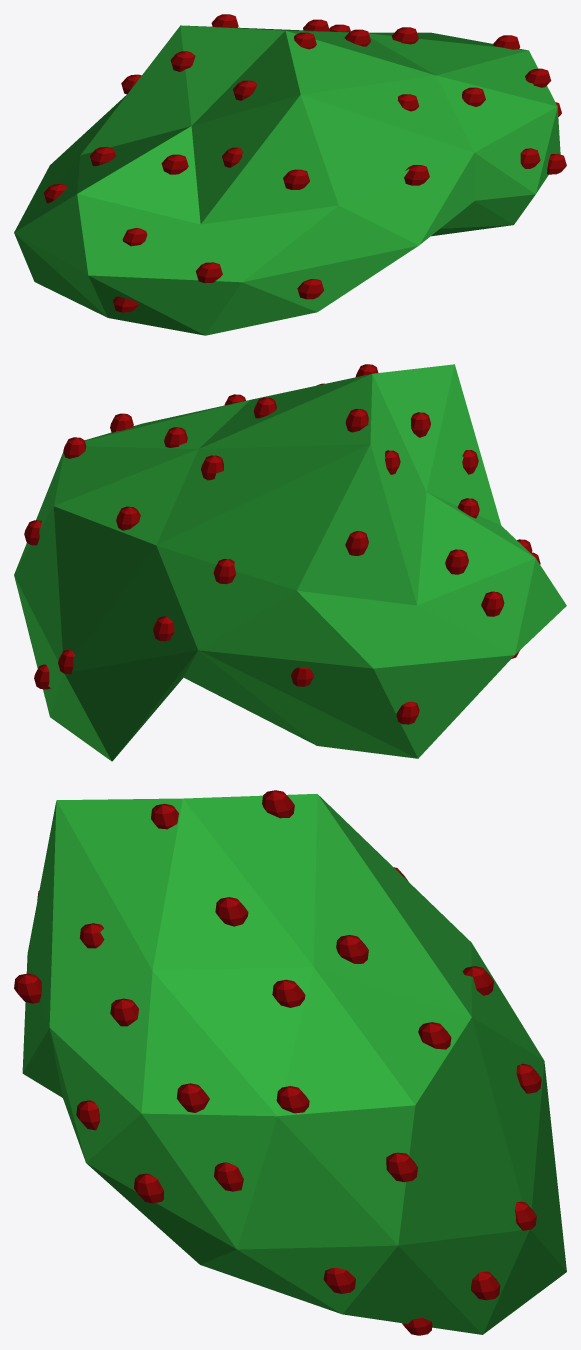
File: bush_5.FBX
3 renders of one model, top to bottom at view 1: azimuth 30°, elevation 25°; view 2: azimuth 150°, elevation 25°; view 3: azimuth 270°, elevation 25°, orthographic. The views are drawn at different scales.
Visible parts, largest first — view 1: bush_5; view 2: bush_5; view 3: bush_5.
Part boxes in pixels (x1=…): bush_5: x1=14, y1=14, x2=566, y2=335; bush_5: x1=14, y1=364, x2=566, y2=761; bush_5: x1=14, y1=790, x2=566, y2=1335.
Bounding box in the file's own units: 1.4 × 0.8533 × 1.06.
Materials: 1 (1 with a texture image).
